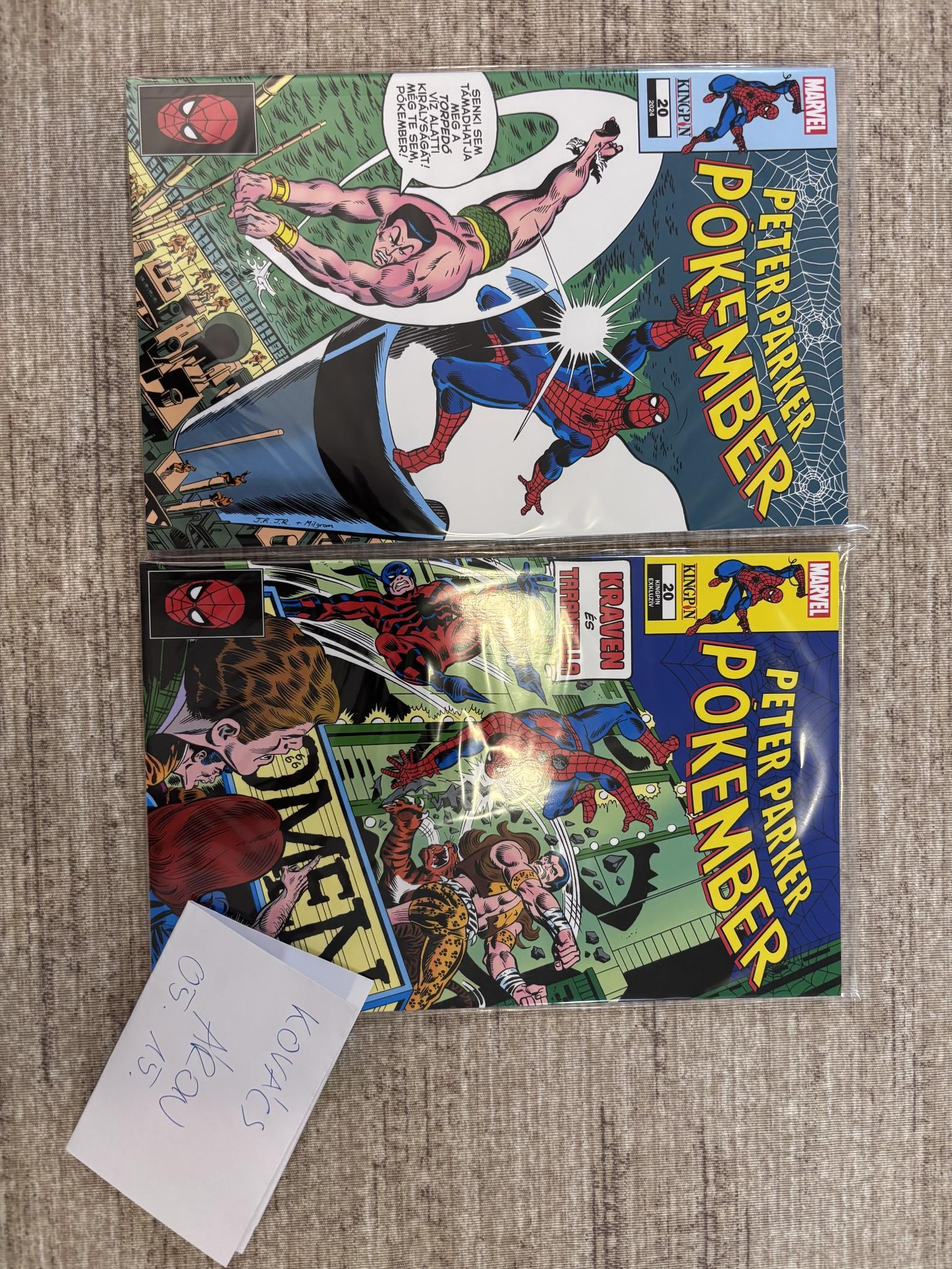comic: (127, 61, 847, 551), (144, 551, 844, 1012)
